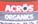AcrosOrganics: (4, 4, 35, 21)
